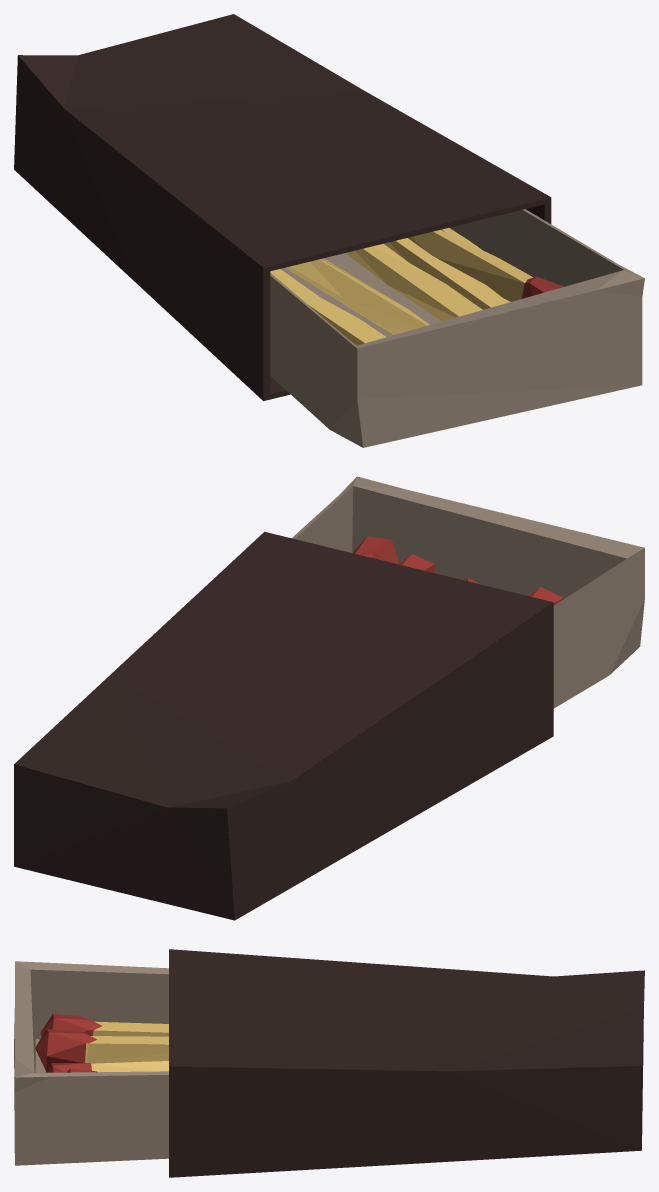
File: boiteALU.fbx
The picture shows the model from 3 angles, top to bottom: view 1: azimuth 30°, elevation 25°; view 2: azimuth 150°, elevation 25°; view 3: azimuth 270°, elevation 25°; orthographic projection. The views are drawn at different scales.
Parts seen in each view (by area): view 1: Cube.001; view 2: Cube.001; view 3: Cube.001.
Boxes of the visible parts, x1,y1,x2,y2 form: Cube.001: [14, 14, 644, 447]; Cube.001: [14, 476, 644, 920]; Cube.001: [14, 949, 644, 1177].
Bounding box in the file's own units: 483 × 213 × 1096.
